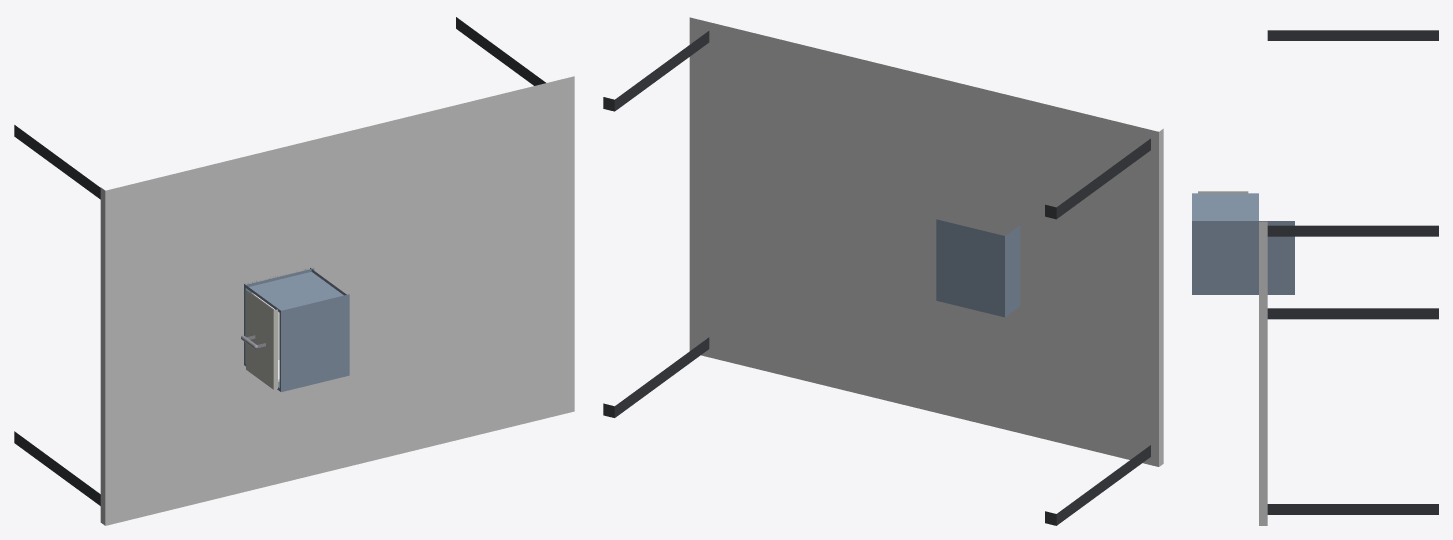
3 views of the same model, side by side, from view 1: azimuth 30°, elevation 25°; view 2: azimuth 150°, elevation 25°; view 3: azimuth 270°, elevation 25° (orthographic). The views are drawn at different scales.
Visible parts, largest first — view 1: s0, s1, s2; view 2: s0, s1; view 3: s0, s1.
Boxes of the visible parts, left/top/right/bottom form: s0: left=14, top=17, right=574, bottom=525; s1: left=244, top=268, right=349, bottom=392; s2: left=241, top=290, right=279, bottom=389; s0: left=603, top=17, right=1163, bottom=525; s1: left=936, top=219, right=1020, bottom=317; s0: left=1259, top=30, right=1438, bottom=525; s1: left=1192, top=193, right=1294, bottom=294.
Bounding box in the file's own units: 2.05 × 1.4 × 1.03.
